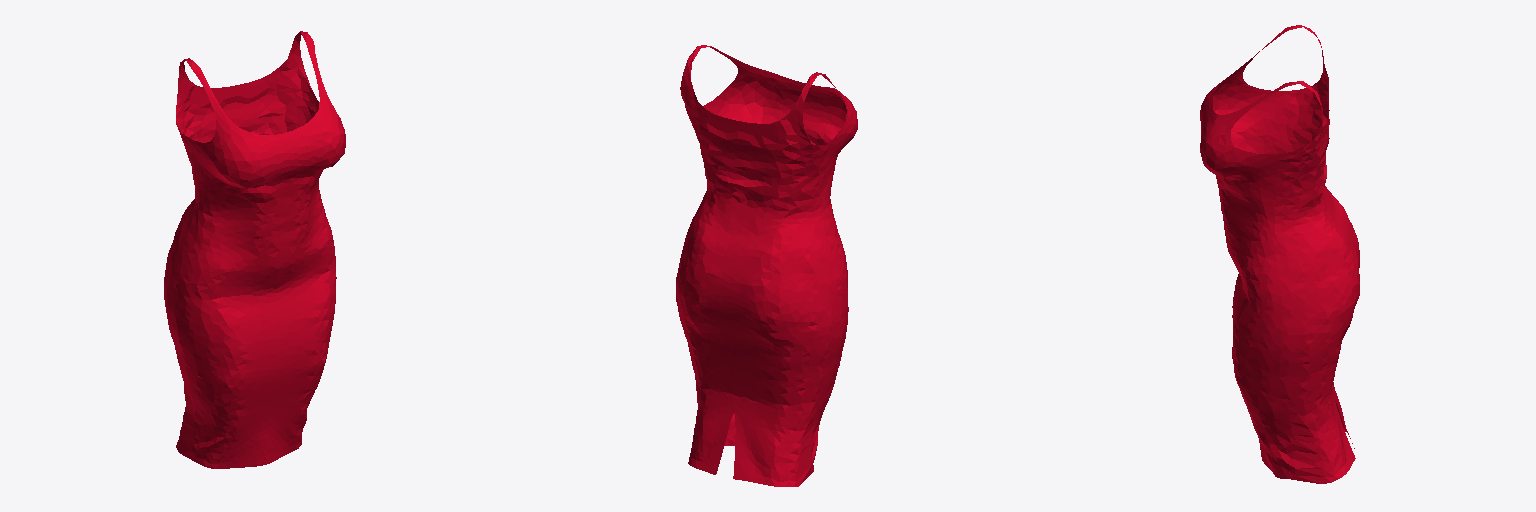
3 views of the same model, side by side, from view 1: azimuth 30°, elevation 25°; view 2: azimuth 150°, elevation 25°; view 3: azimuth 270°, elevation 25° (orthographic).
Parts seen in each view (by area): view 1: large_redBodycon_noinside_resize:polySurface1; view 2: large_redBodycon_noinside_resize:polySurface1; view 3: large_redBodycon_noinside_resize:polySurface1.
Boxes of the visible parts, x1=… form: large_redBodycon_noinside_resize:polySurface1: x1=164, y1=31, x2=345, y2=468; large_redBodycon_noinside_resize:polySurface1: x1=676, y1=45, x2=857, y2=486; large_redBodycon_noinside_resize:polySurface1: x1=1200, y1=25, x2=1359, y2=483.
Bounding box in the file's own units: 3.83 × 9.57 × 3.44.
Materials: 2 (1 with a texture image).